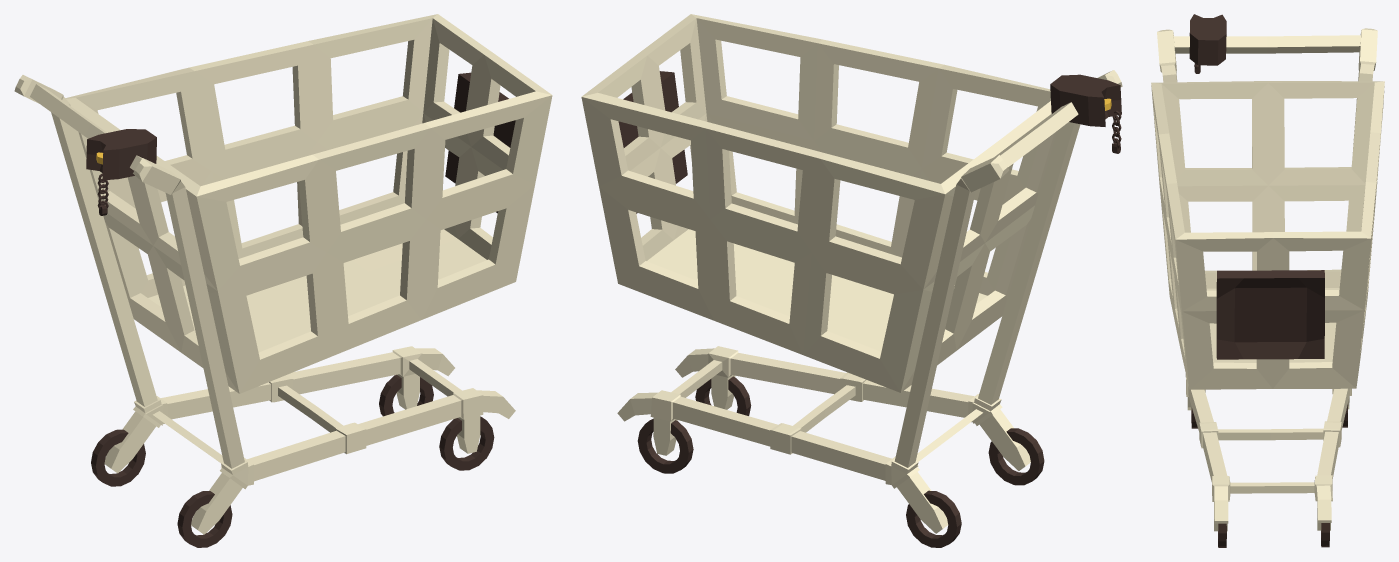
The model's file is cart_white.fbx.
The picture shows the model from 3 angles, left to right: view 1: azimuth 30°, elevation 25°; view 2: azimuth 150°, elevation 25°; view 3: azimuth 270°, elevation 25°; orthographic projection. The views are drawn at different scales.
Visible parts, largest first — view 1: Cart, chain_1; view 2: Cart, chain_1; view 3: Cart, chain_1.
Part boxes in pixels (x1=…): Cart: x1=14, y1=14, x2=552, y2=534; chain_1: x1=86, y1=72, x2=515, y2=547; Cart: x1=581, y1=14, x2=1122, y2=533; chain_1: x1=618, y1=71, x2=1121, y2=547; Cart: x1=1151, y1=28, x2=1384, y2=531; chain_1: x1=1189, y1=14, x2=1347, y2=547.
Bounding box in the file's own units: 121 × 109 × 62.35.
1 material, 1 textured.
